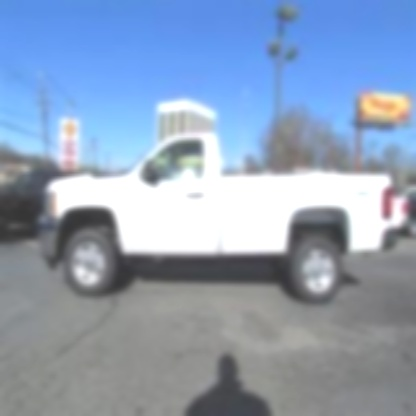Vehicle: (39, 133, 395, 304)
